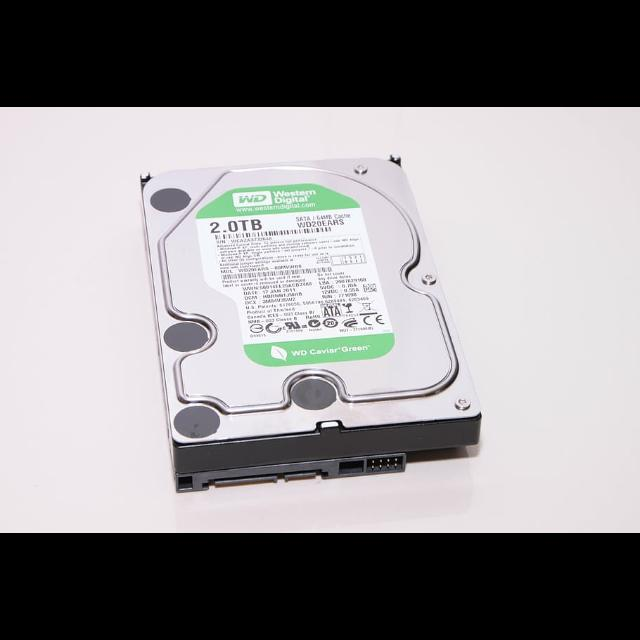HDD: (140, 158, 483, 497)
